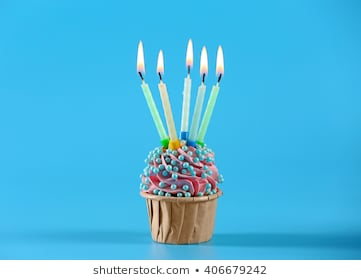Fire: (132, 39, 148, 76), (181, 36, 194, 75), (155, 47, 168, 78), (214, 44, 225, 77), (198, 43, 208, 76)
